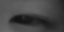Non-RightEyeFatigue: (1, 5, 58, 32)
